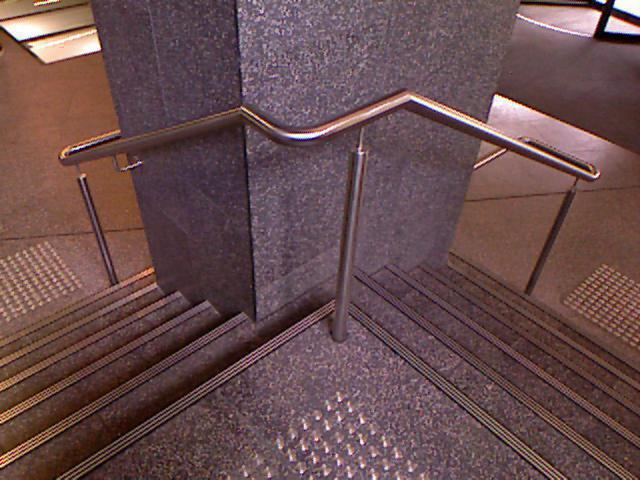Escaleras: (353, 206, 639, 479), (0, 263, 338, 479)
